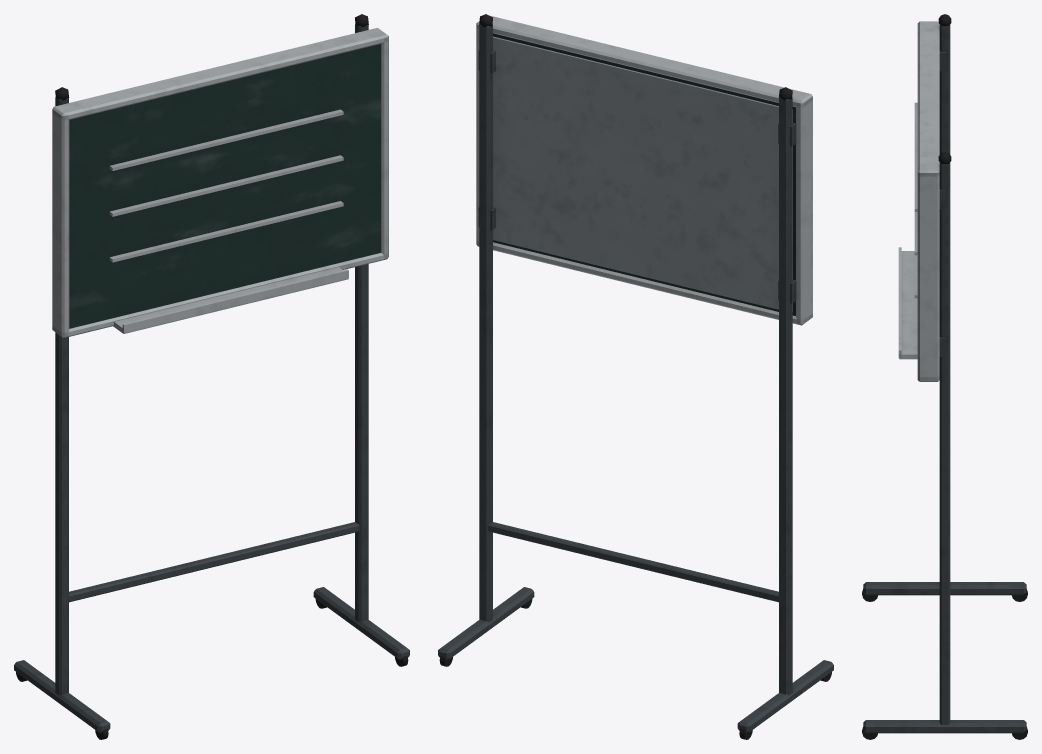
The model's file is cinematic-status-board.fbx.
3 renders of one model, left to right at view 1: azimuth 30°, elevation 25°; view 2: azimuth 150°, elevation 25°; view 3: azimuth 270°, elevation 25°, orthographic. The views are drawn at different scales.
Visible parts, largest first — view 1: cinematic-status-board; view 2: cinematic-status-board; view 3: cinematic-status-board.
Boxes of the visible parts, box(x1,y1,x2,y2) form: cinematic-status-board: box(14, 14, 409, 739); cinematic-status-board: box(438, 14, 833, 739); cinematic-status-board: box(862, 14, 1027, 739).
Size of the model in its own units: 5.24 by 9.53 by 2.44.
Materials: 1 (1 with a texture image).
